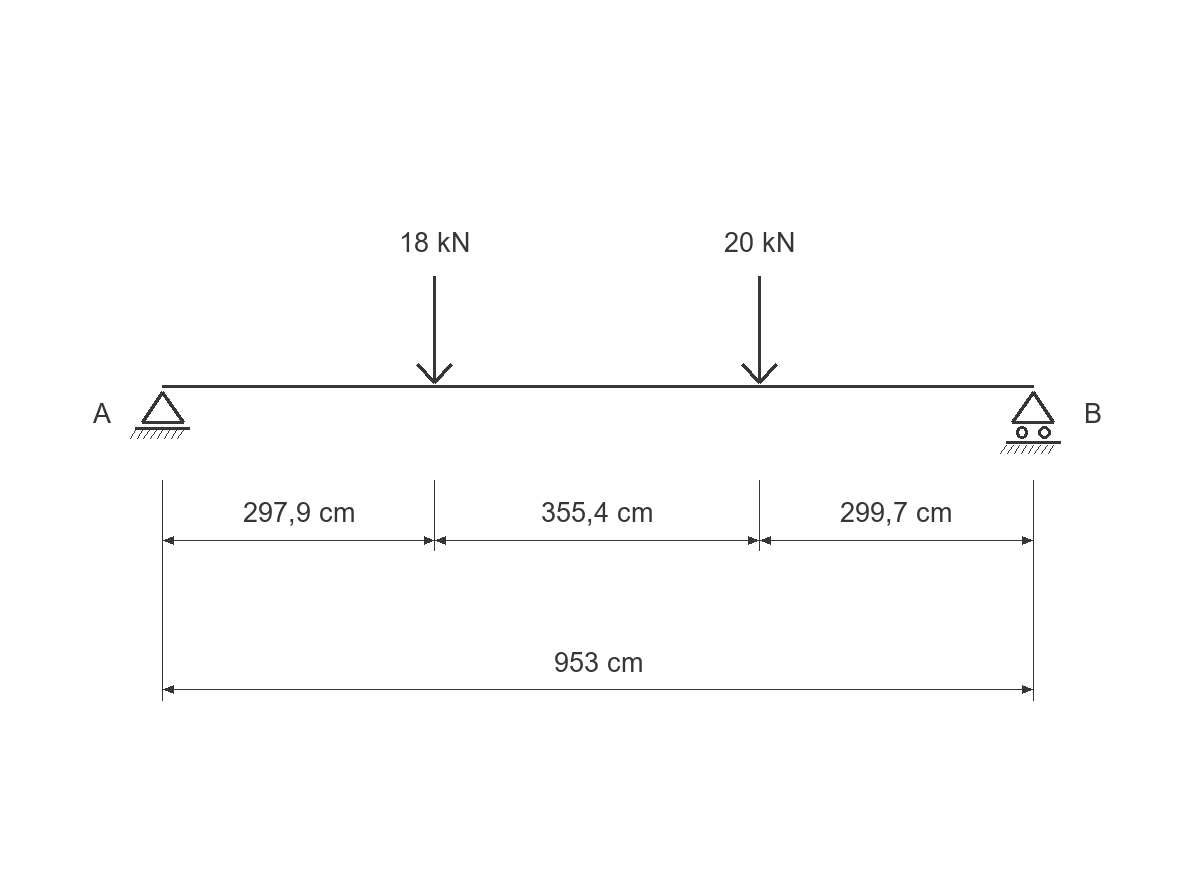pin_support: (130, 391, 190, 439)
point_load: (416, 276, 453, 384), (741, 276, 778, 384)
roller_support: (1000, 391, 1061, 454)
